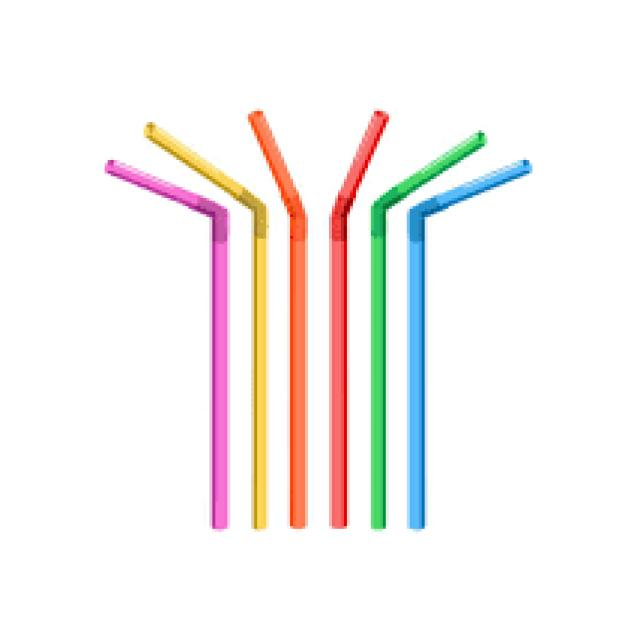straw: (148, 122, 267, 528), (371, 131, 483, 528), (108, 160, 227, 528), (409, 162, 523, 527), (329, 110, 389, 528), (280, 171, 306, 527)
